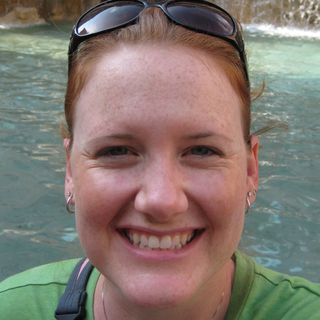eye: (91, 140, 143, 164), (176, 140, 226, 164)
